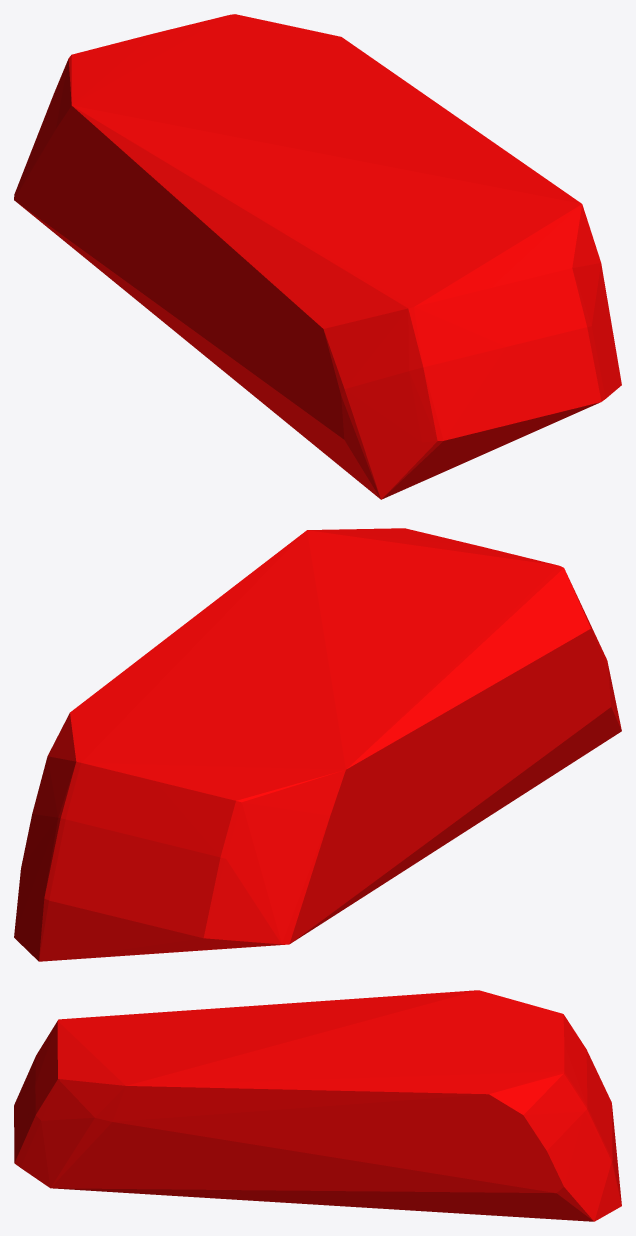
Rendered from wrist_pitch_0091_convex_hull_10.obj.
The picture shows the model from 3 angles, top to bottom: view 1: azimuth 30°, elevation 25°; view 2: azimuth 150°, elevation 25°; view 3: azimuth 270°, elevation 25°; orthographic projection. The views are drawn at different scales.
Visible parts, largest first — view 1: wrist_pitch_0091_convex_hull_10; view 2: wrist_pitch_0091_convex_hull_10; view 3: wrist_pitch_0091_convex_hull_10.
Part boxes in pixels (x1,y1,x2,y2): wrist_pitch_0091_convex_hull_10: [14, 14, 621, 499]; wrist_pitch_0091_convex_hull_10: [14, 528, 621, 961]; wrist_pitch_0091_convex_hull_10: [14, 990, 621, 1221].
Size of the model in its own units: 0.0216 by 0.014 by 0.0549.
